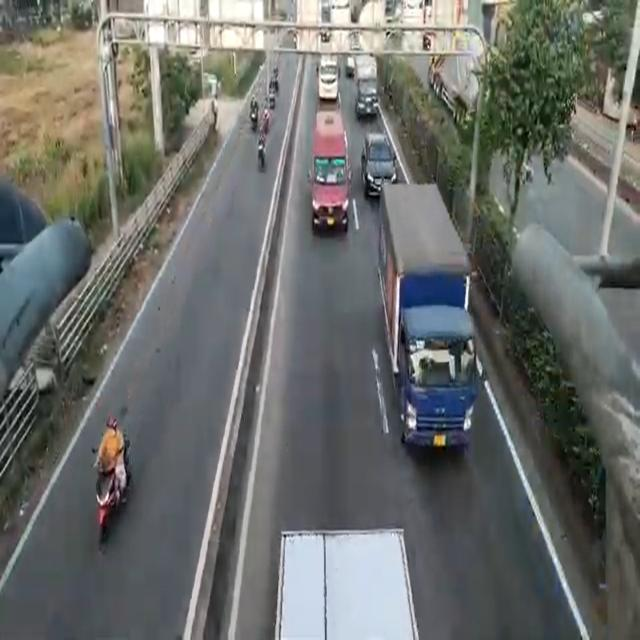car: (363, 129, 394, 193)
motor: (90, 453, 119, 556)
truck: (369, 184, 480, 452), (306, 110, 357, 246), (354, 50, 378, 115)
